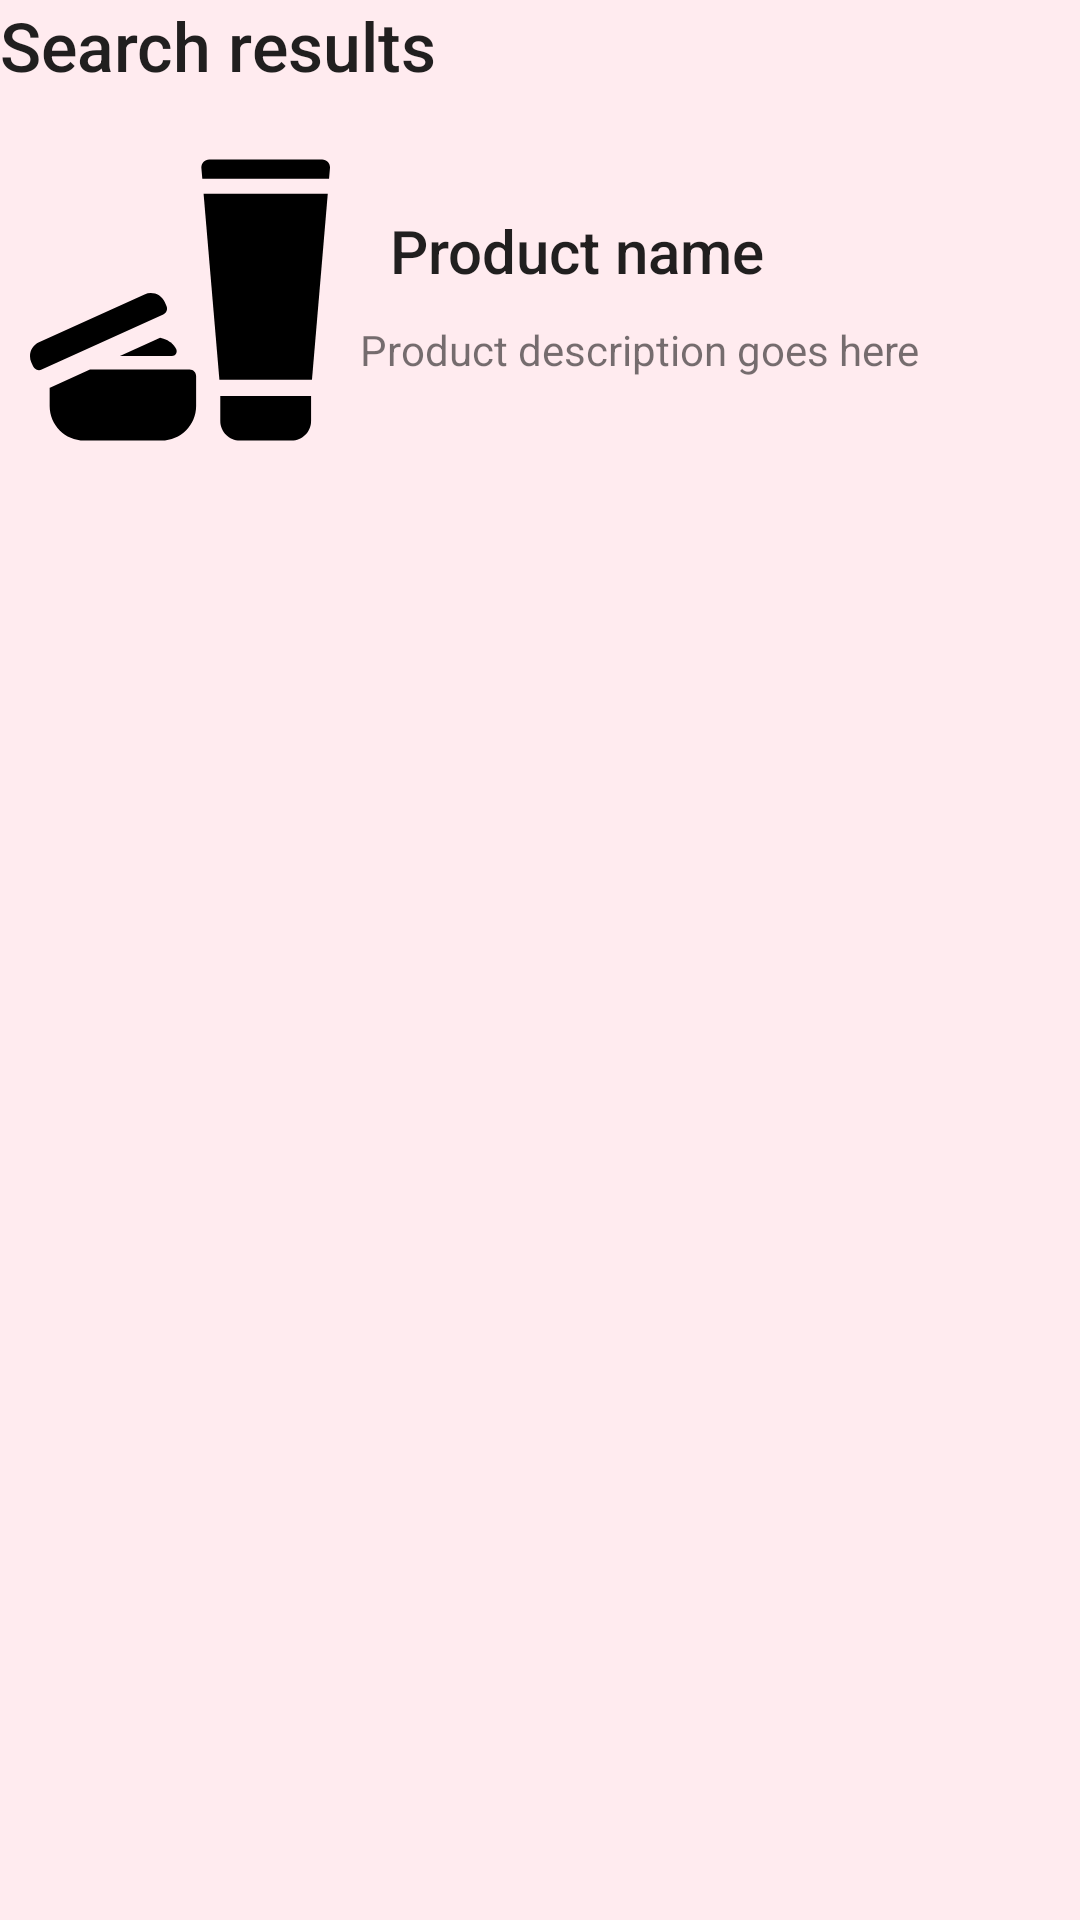

Named icons in this screenshot (1080 x 1920) and their bounding boxes, (x1, y1, x2, y2):
skincare products: (30, 159, 330, 441)
